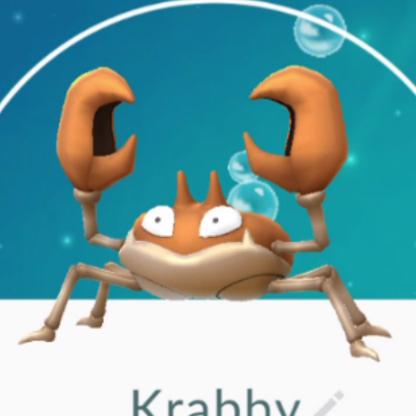Krabby: (32, 60, 396, 365)
